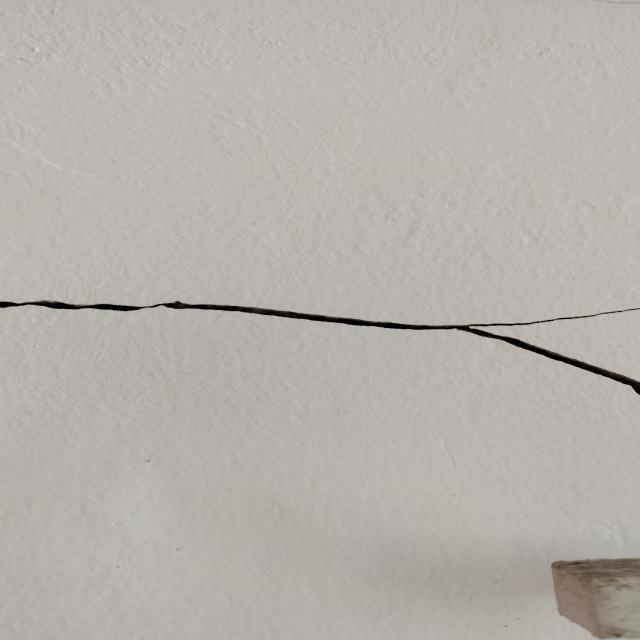Crack: (3, 294, 640, 392)
